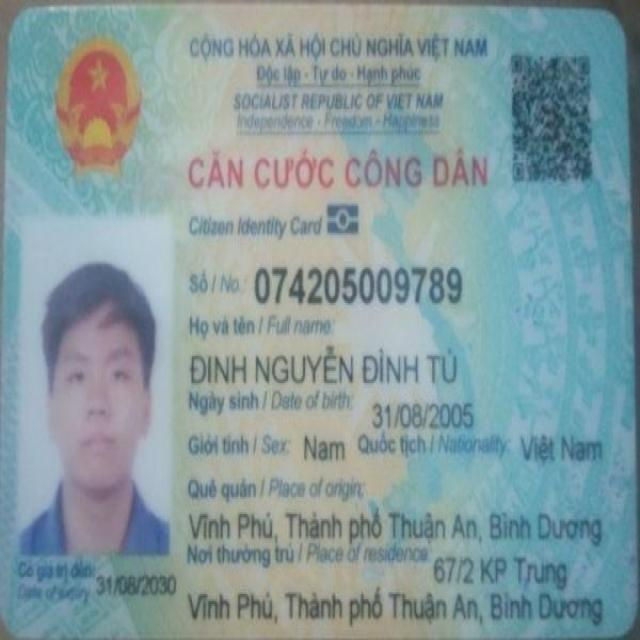current_place: (187, 586, 604, 629), (431, 551, 569, 591)
dob: (373, 393, 479, 432)
expire_date: (95, 570, 181, 597)
gender: (297, 425, 351, 469)
id: (253, 257, 468, 313)
name: (185, 340, 463, 390)
nationality: (518, 422, 610, 466)
origin_place: (189, 505, 606, 547)
qr: (508, 42, 598, 194)
